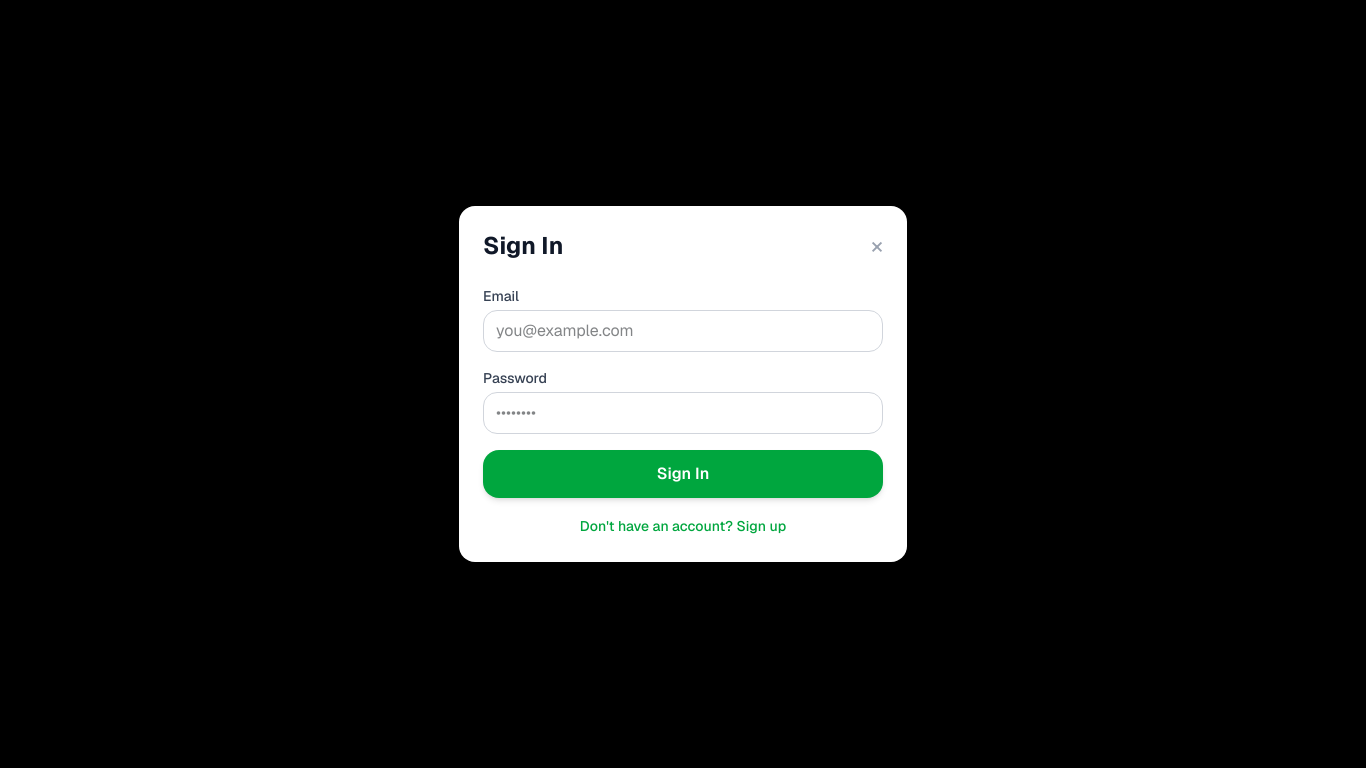
Test: AuthModal › rendering › should render sign up form when toggled
Note: Click toggle button
Click the button "Don't have an account? Sign up": [683, 526] box [580,516,786,536]
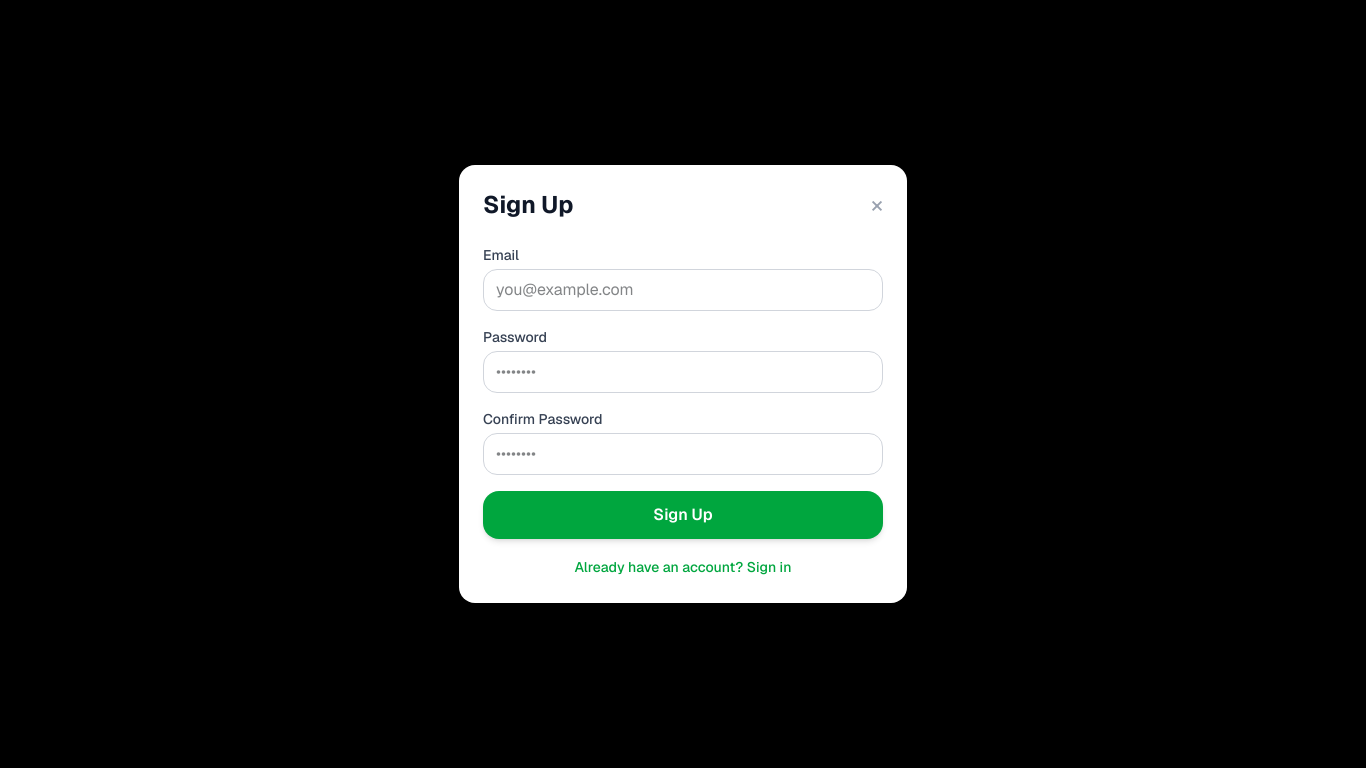
Now the heading "Sign Up" is shown, box [483,189,574,221]
Now the password field labelled "Confirm Password" is shown, box [483,433,883,475]
Now the button "Sign Up" is shown, box [483,491,883,539]
